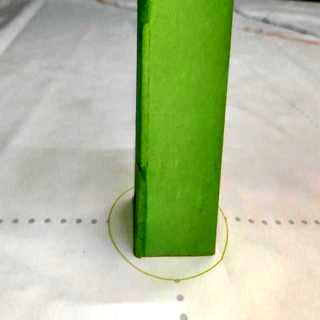greenbox: (133, 0, 229, 266)
